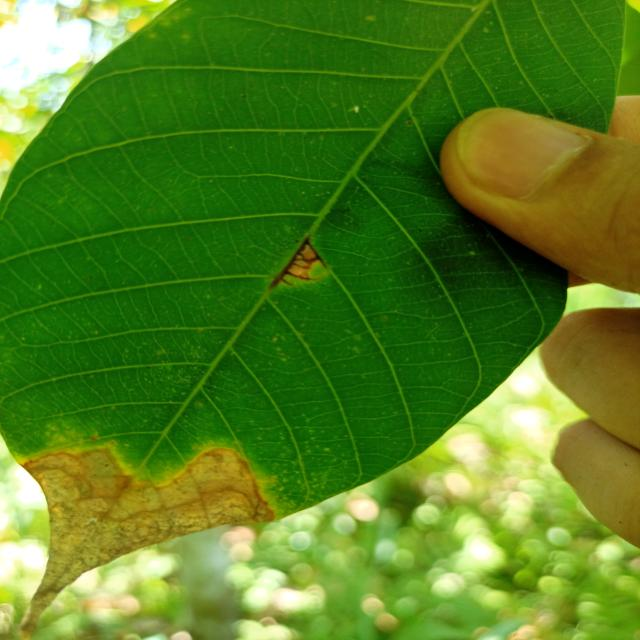Corynespora: (269, 235, 327, 291)
Leaf-Blight: (16, 447, 276, 640)
